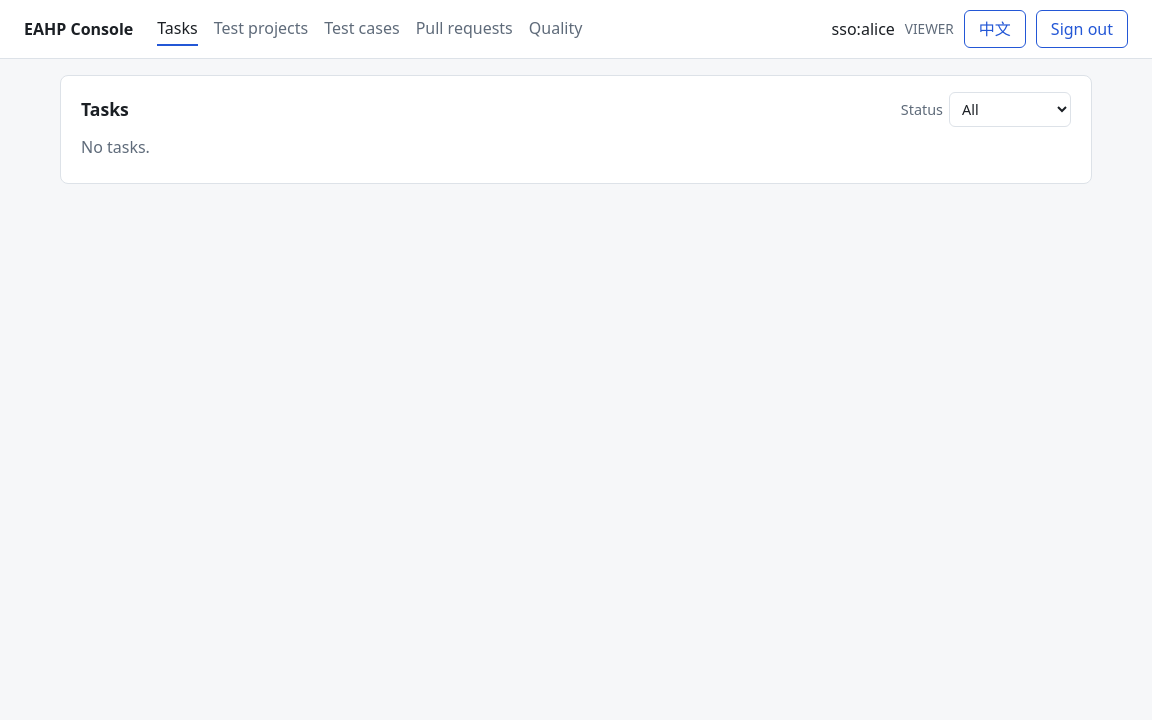
Test case: single sign-on › signing out also ends the provider session, so the next SSO sign-in asks again
Click the button "Sign out" at (1082, 29), box 1036,10 -> 1128,48
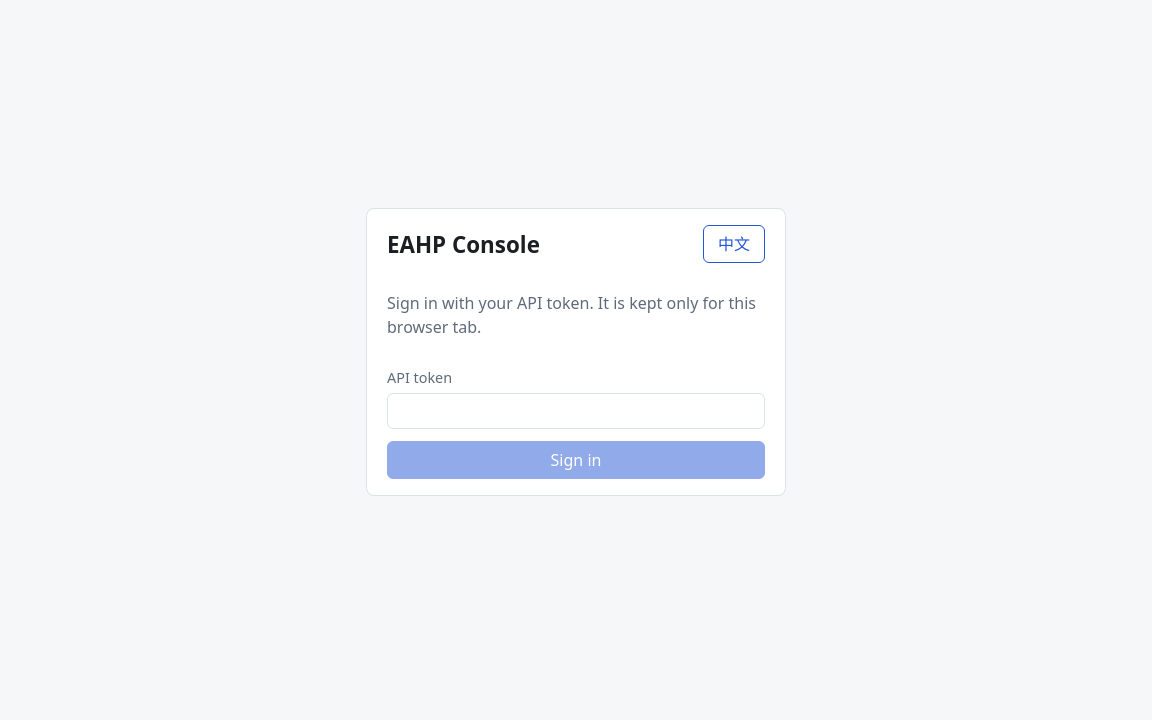
Now the button "Sign in" is shown, box 387,441 -> 765,479
